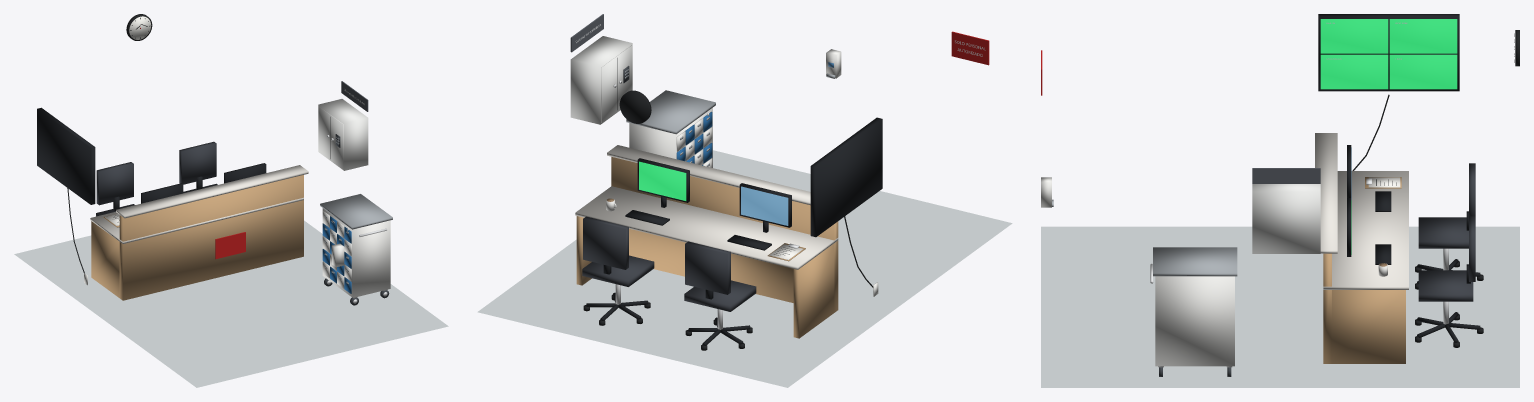
File: 04_n1_centrales_de_enfermeria.glb
3 renders of one model, left to right at view 1: azimuth 30°, elevation 25°; view 2: azimuth 150°, elevation 25°; view 3: azimuth 270°, elevation 25°, orthographic. The views are drawn at different scales.
Parts seen in each view (by area): view 1: piso · Control de enfermería de urgencias, mostrador_enfermeria, carro_medicamentos, pantalla_central, gabinete_controlados, silla_oficina (×2), placa · SOLO PERSONALAUTORIZADO.001, reloj; view 2: piso · Control de enfermería de urgencias, mostrador_enfermeria, silla_oficina (×2), pantalla_central, carro_medicamentos, gabinete_controlados, placa · SOLO PERSONALAUTORIZADO.001, reloj, placa · Medicamentos controlados; view 3: piso · Control de enfermería de urgencias, mostrador_enfermeria, pantalla_central, carro_medicamentos, silla_oficina (×2), gabinete_controlados, placa · Medicamentos controlados, carpeta.
Boxes of the visible parts, x1=… form: piso · Control de enfermería de urgencias: x1=14, y1=220, x2=448, y2=387; mostrador_enfermeria: x1=90, y1=163, x2=308, y2=300; carro_medicamentos: x1=320, y1=194, x2=392, y2=305; pantalla_central: x1=37, y1=107, x2=95, y2=204; gabinete_controlados: x1=318, y1=99, x2=368, y2=170; silla_oficina (×2): x1=96, y1=141, x2=217, y2=216; placa · SOLO PERSONALAUTORIZADO.001: x1=215, y1=232, x2=245, y2=259; reloj: x1=126, y1=14, x2=152, y2=40; piso · Control de enfermería de urgencias: x1=477, y1=150, x2=1012, y2=387; mostrador_enfermeria: x1=575, y1=145, x2=838, y2=338; silla_oficina (×2): x1=582, y1=216, x2=756, y2=350; pantalla_central: x1=810, y1=117, x2=882, y2=237; carro_medicamentos: x1=626, y1=90, x2=715, y2=167; gabinete_controlados: x1=570, y1=36, x2=632, y2=124; placa · SOLO PERSONALAUTORIZADO.001: x1=951, y1=31, x2=989, y2=65; reloj: x1=619, y1=90, x2=651, y2=123; placa · Medicamentos controlados: x1=570, y1=14, x2=603, y2=52; piso · Control de enfermería de urgencias: x1=1041, y1=226, x2=1519, y2=387; mostrador_enfermeria: x1=1315, y1=133, x2=1408, y2=363; pantalla_central: x1=1318, y1=14, x2=1459, y2=91; carro_medicamentos: x1=1150, y1=247, x2=1237, y2=376; silla_oficina (×2): x1=1415, y1=163, x2=1483, y2=347; gabinete_controlados: x1=1252, y1=184, x2=1320, y2=253; placa · Medicamentos controlados: x1=1252, y1=168, x2=1320, y2=183; carpeta: x1=1365, y1=177, x2=1401, y2=188.
Bounding box in the file's own units: 3.35 × 2.66 × 4.2.
21 materials, 1 textured.
